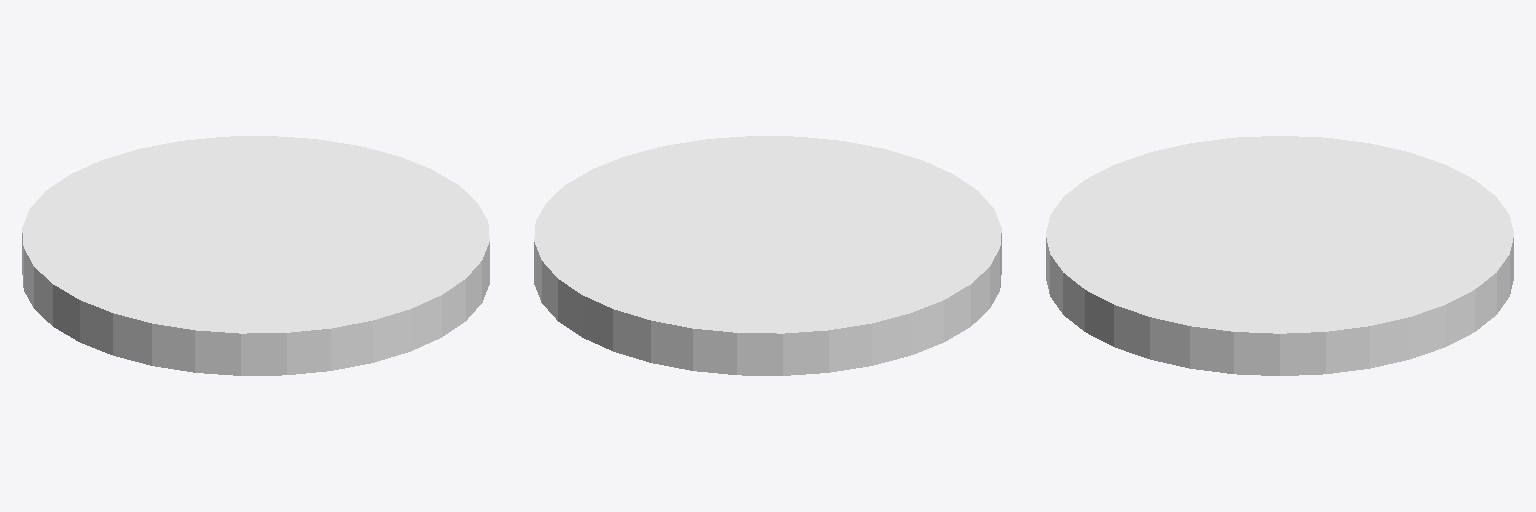
File: o_wire.obj
3 views of the same model, side by side, from view 1: azimuth 30°, elevation 25°; view 2: azimuth 150°, elevation 25°; view 3: azimuth 270°, elevation 25° (orthographic).
Parts seen in each view (by area): view 1: Cylinder_Cylinder_Material; view 2: Cylinder_Cylinder_Material; view 3: Cylinder_Cylinder_Material.
Boxes of the visible parts, x1,y1,x2,y2 form: Cylinder_Cylinder_Material: [22, 136, 489, 375]; Cylinder_Cylinder_Material: [534, 136, 1001, 375]; Cylinder_Cylinder_Material: [1046, 136, 1513, 375].
Bounding box in the file's own units: 0.2 × 0.02 × 0.2.